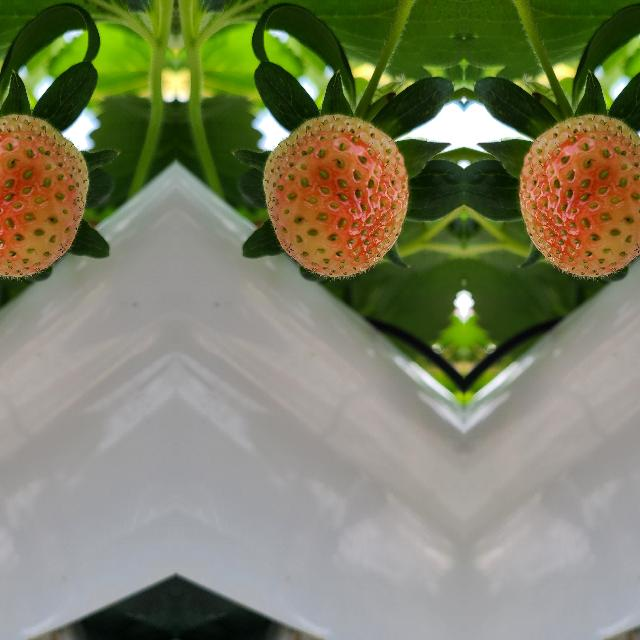Health_50: (258, 111, 412, 281), (514, 111, 640, 281), (0, 111, 91, 281)
